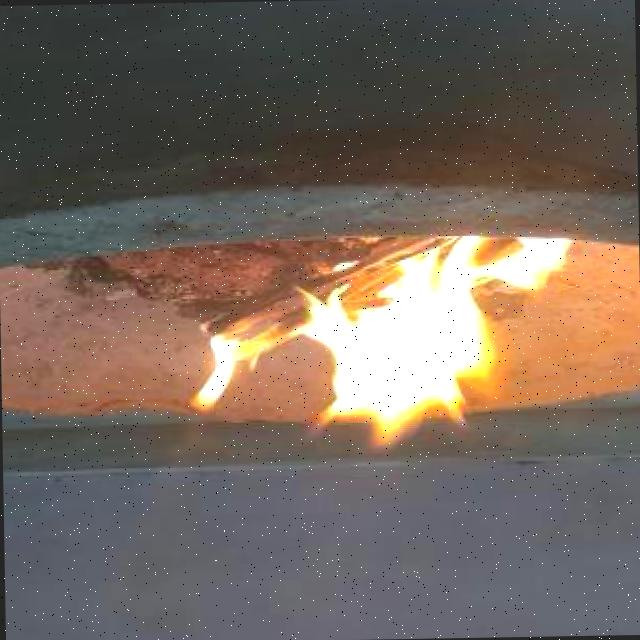fire: (185, 234, 563, 456)
